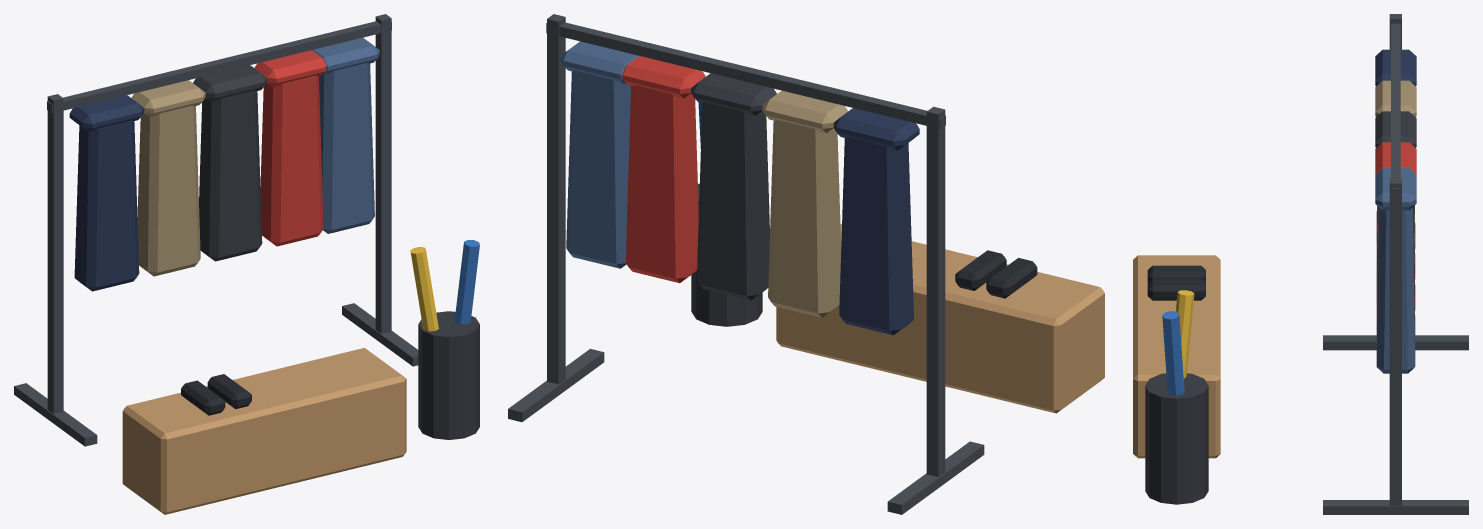
The model's file is coat_rack.glb.
3 renders of one model, left to right at view 1: azimuth 30°, elevation 25°; view 2: azimuth 150°, elevation 25°; view 3: azimuth 270°, elevation 25°, orthographic. The views are drawn at different scales.
Visible parts, largest first — view 1: coat_rack_mesh; view 2: coat_rack_mesh; view 3: coat_rack_mesh.
Boxes of the visible parts, bbox=[...] form: coat_rack_mesh: bbox=[14, 14, 479, 514]; coat_rack_mesh: bbox=[508, 14, 1104, 514]; coat_rack_mesh: bbox=[1133, 14, 1468, 514].
Size of the model in its own units: 1.73 by 1.5 by 1.38.
